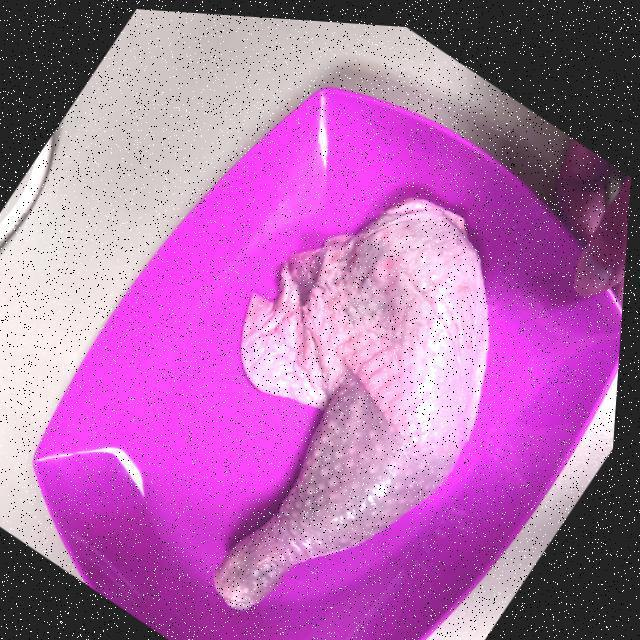quater: (213, 211, 487, 624)
